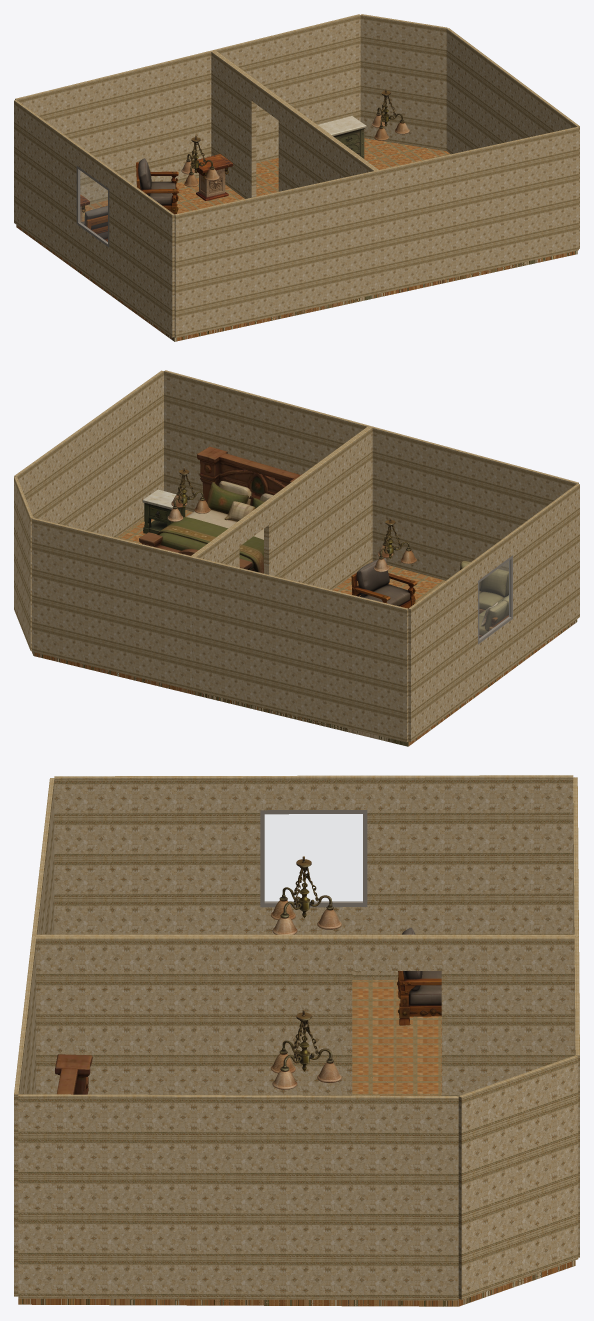
File: ghibli-home.glb
3 renders of one model, top to bottom at view 1: azimuth 30°, elevation 25°; view 2: azimuth 150°, elevation 25°; view 3: azimuth 270°, elevation 25°, orthographic. The views are drawn at different scales.
Parts seen in each view (by area): view 1: geometry_0.003, geometry_0.010, geometry_0.002, geometry_0.001, geometry_0.014, geometry_0.015, geometry_0.013, geometry_0.012, geometry_0.008, geometry_0, glass, geometry_0.011 (+7 smaller); view 2: geometry_0.001, geometry_0.014, geometry_0.002, geometry_0.003, geometry_0.012, geometry_0.015, geometry_0.010, geometry_0.071, geometry_0, geometry_0.013, geometry_0.006, glass (+7 smaller); view 3: geometry_0.012, geometry_0.002, geometry_0.004, geometry_0.013, geometry_0, glass, geometry_0.008, geometry_0.010, geometry_0.003, geometry_0.020, geometry_0.019, geometry_0.009 (+5 smaller).
Boxes of the visible parts, left/top/right/bottom form: geometry_0.003: left=174, top=170, right=377, bottom=337; geometry_0.010: left=377, top=127, right=578, bottom=293; geometry_0.002: left=14, top=100, right=174, bottom=337; geometry_0.001: left=15, top=50, right=213, bottom=203; geometry_0.014: left=213, top=14, right=360, bottom=163; geometry_0.015: left=211, top=51, right=376, bottom=198; geometry_0.013: left=360, top=14, right=447, bottom=150; geometry_0.012: left=446, top=28, right=579, bottom=248; geometry_0.008: left=256, top=138, right=577, bottom=297; geometry_0: left=16, top=177, right=376, bottom=341; glass: left=79, top=170, right=107, bottom=242; geometry_0.011: left=136, top=158, right=179, bottom=214; geometry_0.001: left=192, top=556, right=408, bottom=742; geometry_0.014: left=32, top=518, right=192, bottom=690; geometry_0.002: left=408, top=483, right=579, bottom=741; geometry_0.003: left=370, top=426, right=578, bottom=580; geometry_0.012: left=14, top=370, right=163, bottom=537; geometry_0.015: left=194, top=427, right=372, bottom=589; geometry_0.010: left=164, top=370, right=371, bottom=511; geometry_0.071: left=139, top=446, right=302, bottom=573; geometry_0: left=193, top=561, right=577, bottom=746; geometry_0.013: left=14, top=476, right=33, bottom=650; geometry_0.006: left=351, top=558, right=417, bottom=608; glass: left=479, top=560, right=509, bottom=638; geometry_0.012: left=18, top=1094, right=458, bottom=1300; geometry_0.002: left=54, top=775, right=573, bottom=979; geometry_0.004: left=36, top=936, right=574, bottom=1096; geometry_0.013: left=458, top=1055, right=578, bottom=1299; geometry_0: left=352, top=980, right=441, bottom=1095; glass: left=265, top=814, right=362, bottom=901; geometry_0.008: left=18, top=1260, right=575, bottom=1306; geometry_0.010: left=14, top=936, right=36, bottom=1296; geometry_0.003: left=32, top=778, right=54, bottom=936; geometry_0.020: left=397, top=927, right=441, bottom=1025; geometry_0.019: left=271, top=1009, right=341, bottom=1089; geometry_0.009: left=271, top=856, right=341, bottom=934.
Bounding box in the file's own units: 8.55 × 2.6 × 6.34.
Materials: 12 (10 with a texture image).
